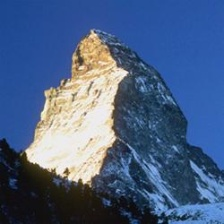neutral: (1, 5, 224, 221)
